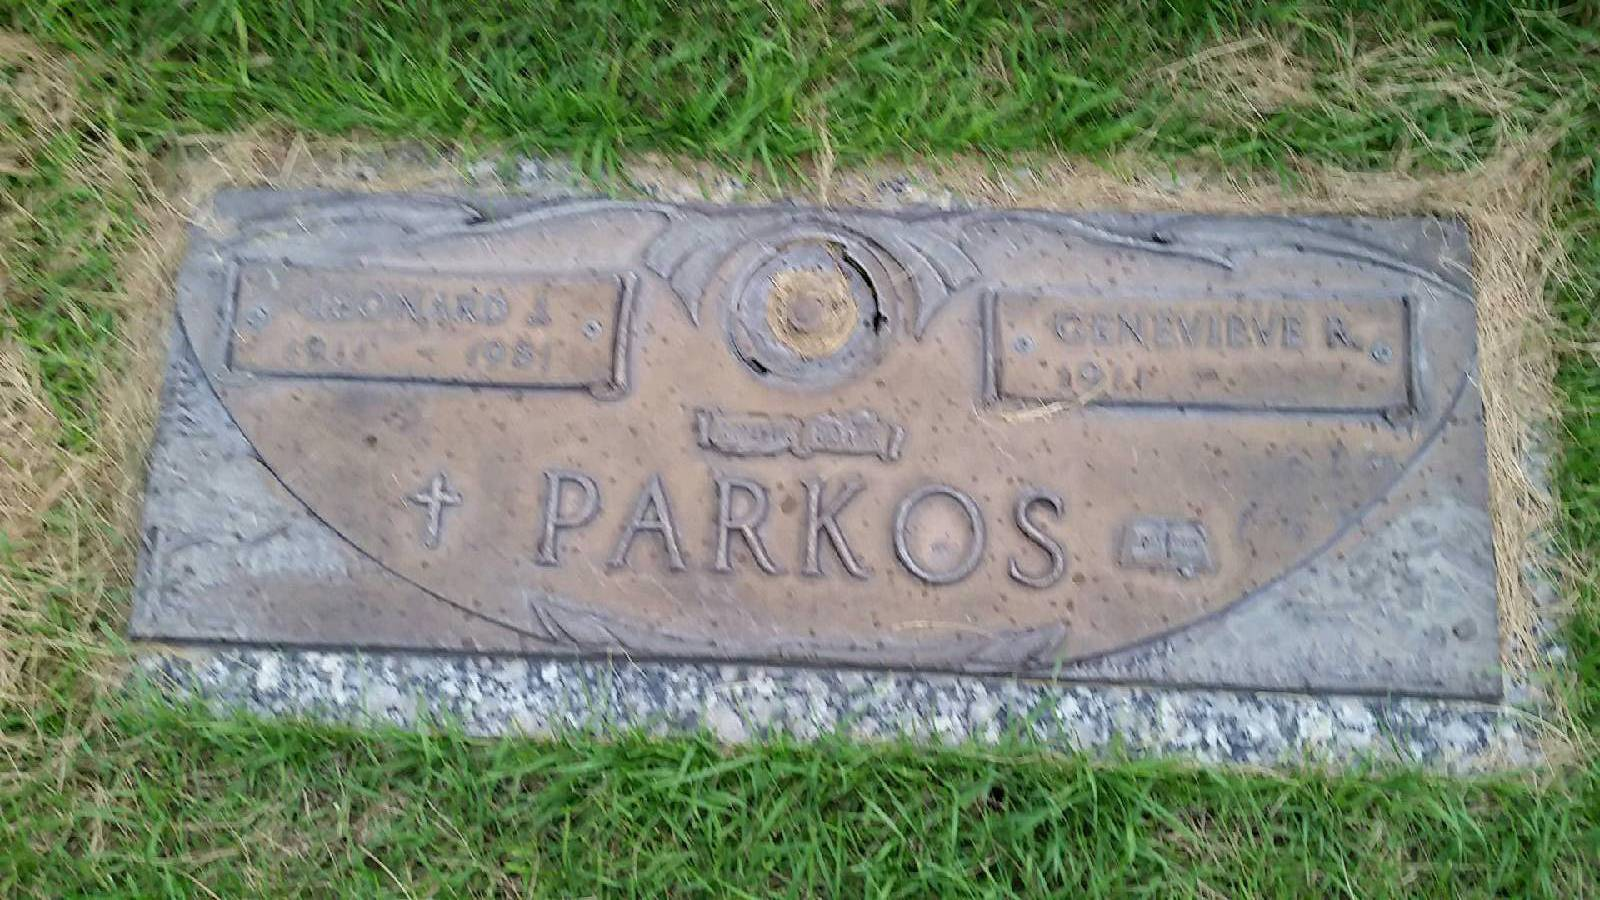flat: (116, 147, 1543, 769)
